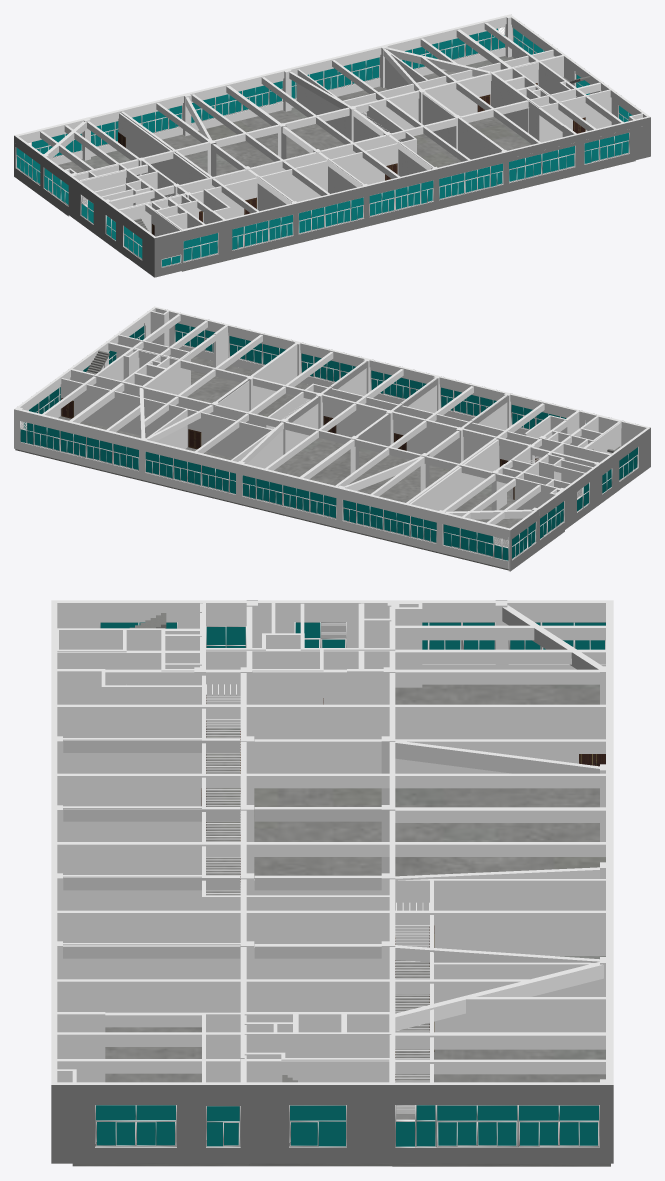
3 views of the same model, one above another, from view 1: azimuth 30°, elevation 25°; view 2: azimuth 150°, elevation 25°; view 3: azimuth 270°, elevation 25° (orthographic). The views are drawn at different scales.
Visible parts, largest first — view 1: 矩形梁, 内墙, 玻璃, 外墙灰, 楼板, 不锈钢, 外墙, 柱, 双扇门; view 2: 矩形梁, 内墙, 玻璃, 外墙, 楼板, 不锈钢, 外墙灰, 柱, 双扇门; view 3: 矩形梁, 内墙, 楼板, 外墙灰, 玻璃, 柱, 吊顶, 外墙, 不锈钢.
Part boxes in pixels (x1,y1,x2,y2): 矩形梁: (14,15,650,238); 内墙: (64,49,642,236); 玻璃: (16,28,632,266); 外墙灰: (14,117,650,277); 楼板: (58,56,635,271); 不锈钢: (16,26,629,267); 外墙: (15,24,634,267); 柱: (41,14,513,235); 双扇门: (118,83,585,235); 矩形梁: (17,306,650,537); 内墙: (60,311,621,521); 玻璃: (20,323,637,560); 外墙: (20,318,639,571); 楼板: (15,356,618,570); 不锈钢: (20,323,638,561); 外墙灰: (510,427,650,571); 柱: (14,341,601,553); 双扇门: (61,398,538,499); 矩形梁: (51,600,613,1084); 内墙: (57,603,605,1082); 楼板: (72,684,610,1166); 外墙灰: (51,600,613,1163); 玻璃: (96,622,605,1146); 柱: (51,600,613,1084); 吊顶: (206,684,429,1109); 外墙: (57,617,613,1147); 不锈钢: (95,622,605,1147).
Size of the model in its own units: 59.34 by 4.7 by 29.1.
9 materials, 5 textured.
